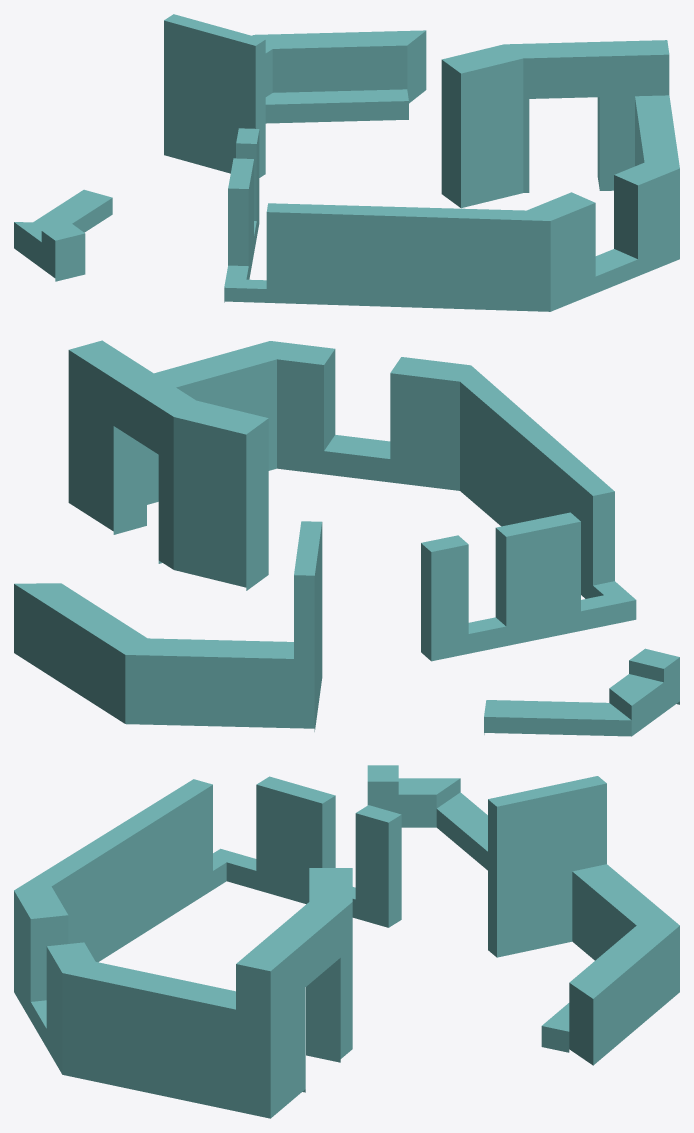
The model's file is Project 07_CDC.glb.
3 renders of one model, top to bottom at view 1: azimuth 30°, elevation 25°; view 2: azimuth 150°, elevation 25°; view 3: azimuth 270°, elevation 25°, orthographic. The views are drawn at different scales.
Bounding box in the file's own units: 1 × 0.2263 × 0.9051.
